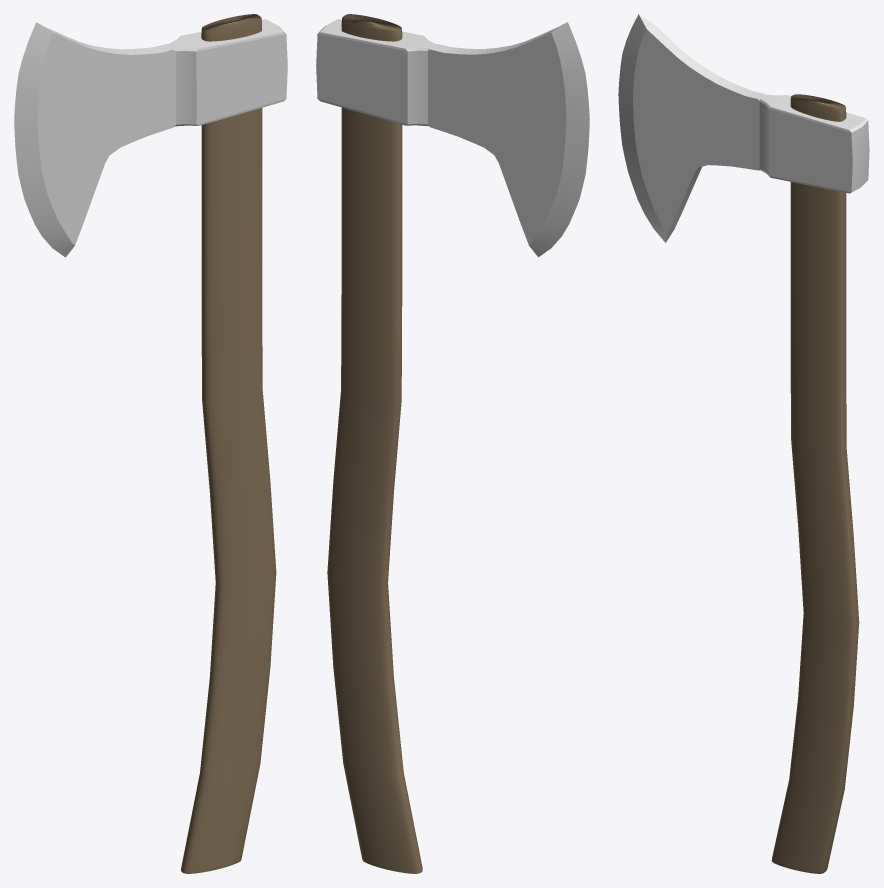
Rendered from Axe.fbx.
3 views of the same model, side by side, from view 1: azimuth 30°, elevation 25°; view 2: azimuth 150°, elevation 25°; view 3: azimuth 330°, elevation 25° (orthographic). The views are drawn at different scales.
Parts seen in each view (by area): view 1: Griff, Axt; view 2: Griff, Axt; view 3: Griff, Axt.
Part boxes in pixels (bbox=[...]): Griff: bbox=[181, 14, 276, 873]; Axt: bbox=[14, 19, 287, 257]; Griff: bbox=[327, 14, 422, 873]; Axt: bbox=[316, 19, 589, 257]; Griff: bbox=[771, 94, 859, 873]; Axt: bbox=[618, 14, 869, 242].
Size of the model in its own units: 38.38 by 122 by 4.61.
